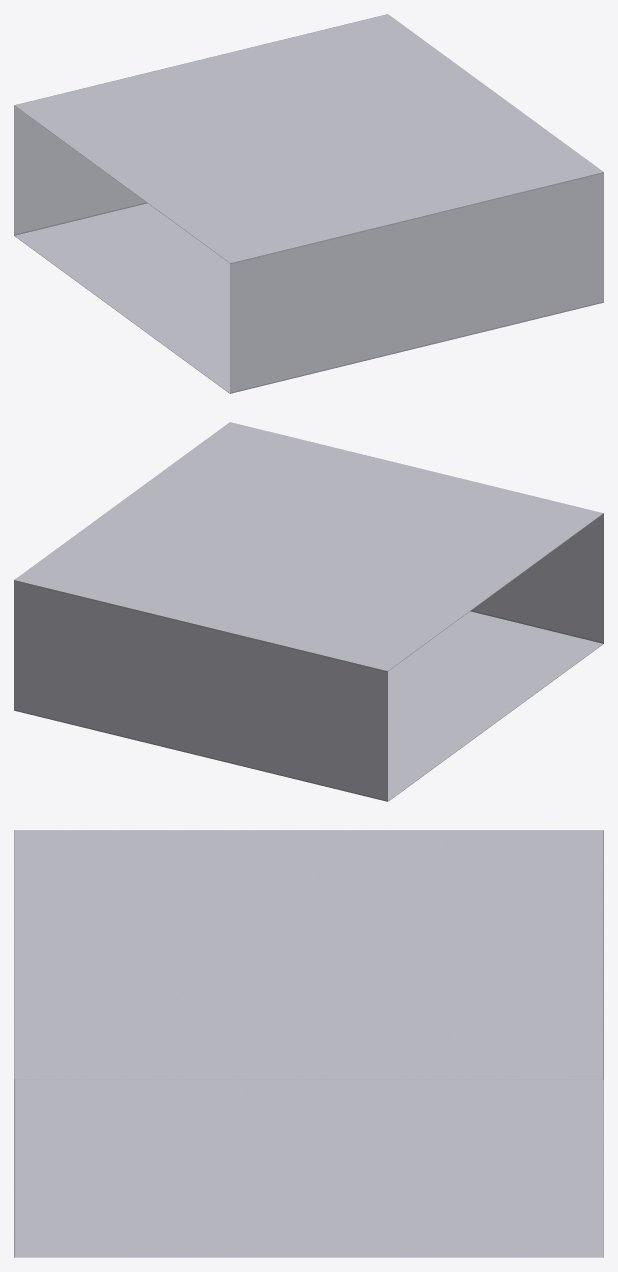
The model's file is Roof_Half_01.FBX.
3 views of the same model, one above another, from view 1: azimuth 30°, elevation 25°; view 2: azimuth 150°, elevation 25°; view 3: azimuth 270°, elevation 25° (orthographic). The views are drawn at different scales.
Parts seen in each view (by area): view 1: Roof_Half_01; view 2: Roof_Half_01; view 3: Roof_Half_01.
Part boxes in pixels (bbox=[...]): Roof_Half_01: bbox=[14, 14, 603, 393]; Roof_Half_01: bbox=[14, 422, 603, 801]; Roof_Half_01: bbox=[14, 830, 603, 1257].
Bounding box in the file's own units: 6 × 2 × 6.
Materials: 1 (1 with a texture image).
